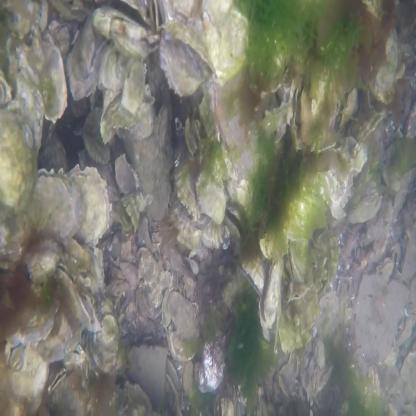3: (68, 165, 110, 246), (320, 136, 366, 208), (56, 261, 99, 332), (92, 0, 151, 51), (253, 84, 289, 141), (260, 252, 284, 333), (291, 76, 316, 151), (332, 87, 359, 129), (240, 257, 266, 296), (225, 206, 244, 241), (186, 119, 200, 156), (315, 259, 329, 296), (172, 0, 194, 20), (0, 71, 12, 106), (50, 369, 66, 393), (151, 0, 159, 34)
Oyster-Closed: (0, 73, 44, 270), (37, 285, 80, 361), (203, 11, 249, 80), (162, 21, 216, 76), (69, 14, 102, 100), (160, 35, 201, 95), (164, 292, 200, 358), (175, 128, 200, 215), (196, 171, 226, 223), (82, 108, 110, 163), (26, 240, 61, 282), (121, 59, 146, 112), (287, 242, 308, 285), (155, 106, 167, 150)
Oyster-Open: (30, 168, 85, 244), (6, 288, 57, 348), (86, 313, 119, 376), (203, 332, 226, 388), (386, 137, 416, 177), (350, 193, 382, 225), (378, 259, 394, 287), (218, 399, 235, 416)
